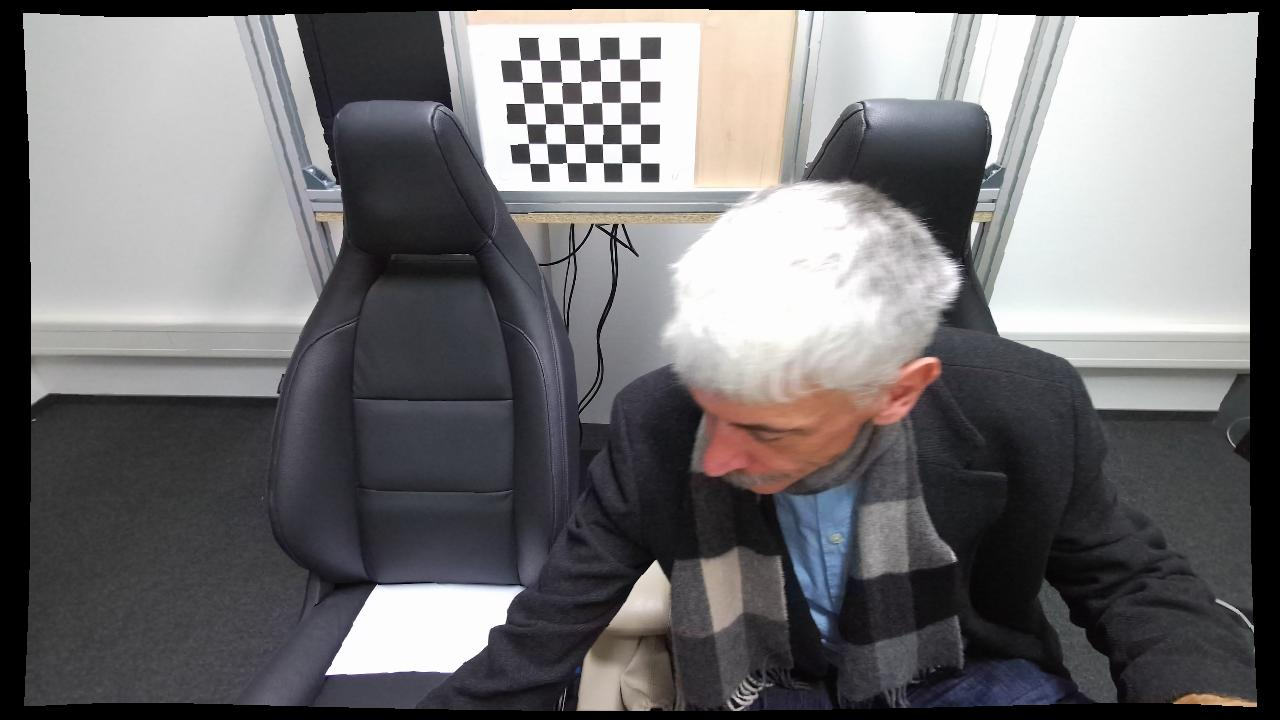Distracted: (410, 173, 1180, 710)
